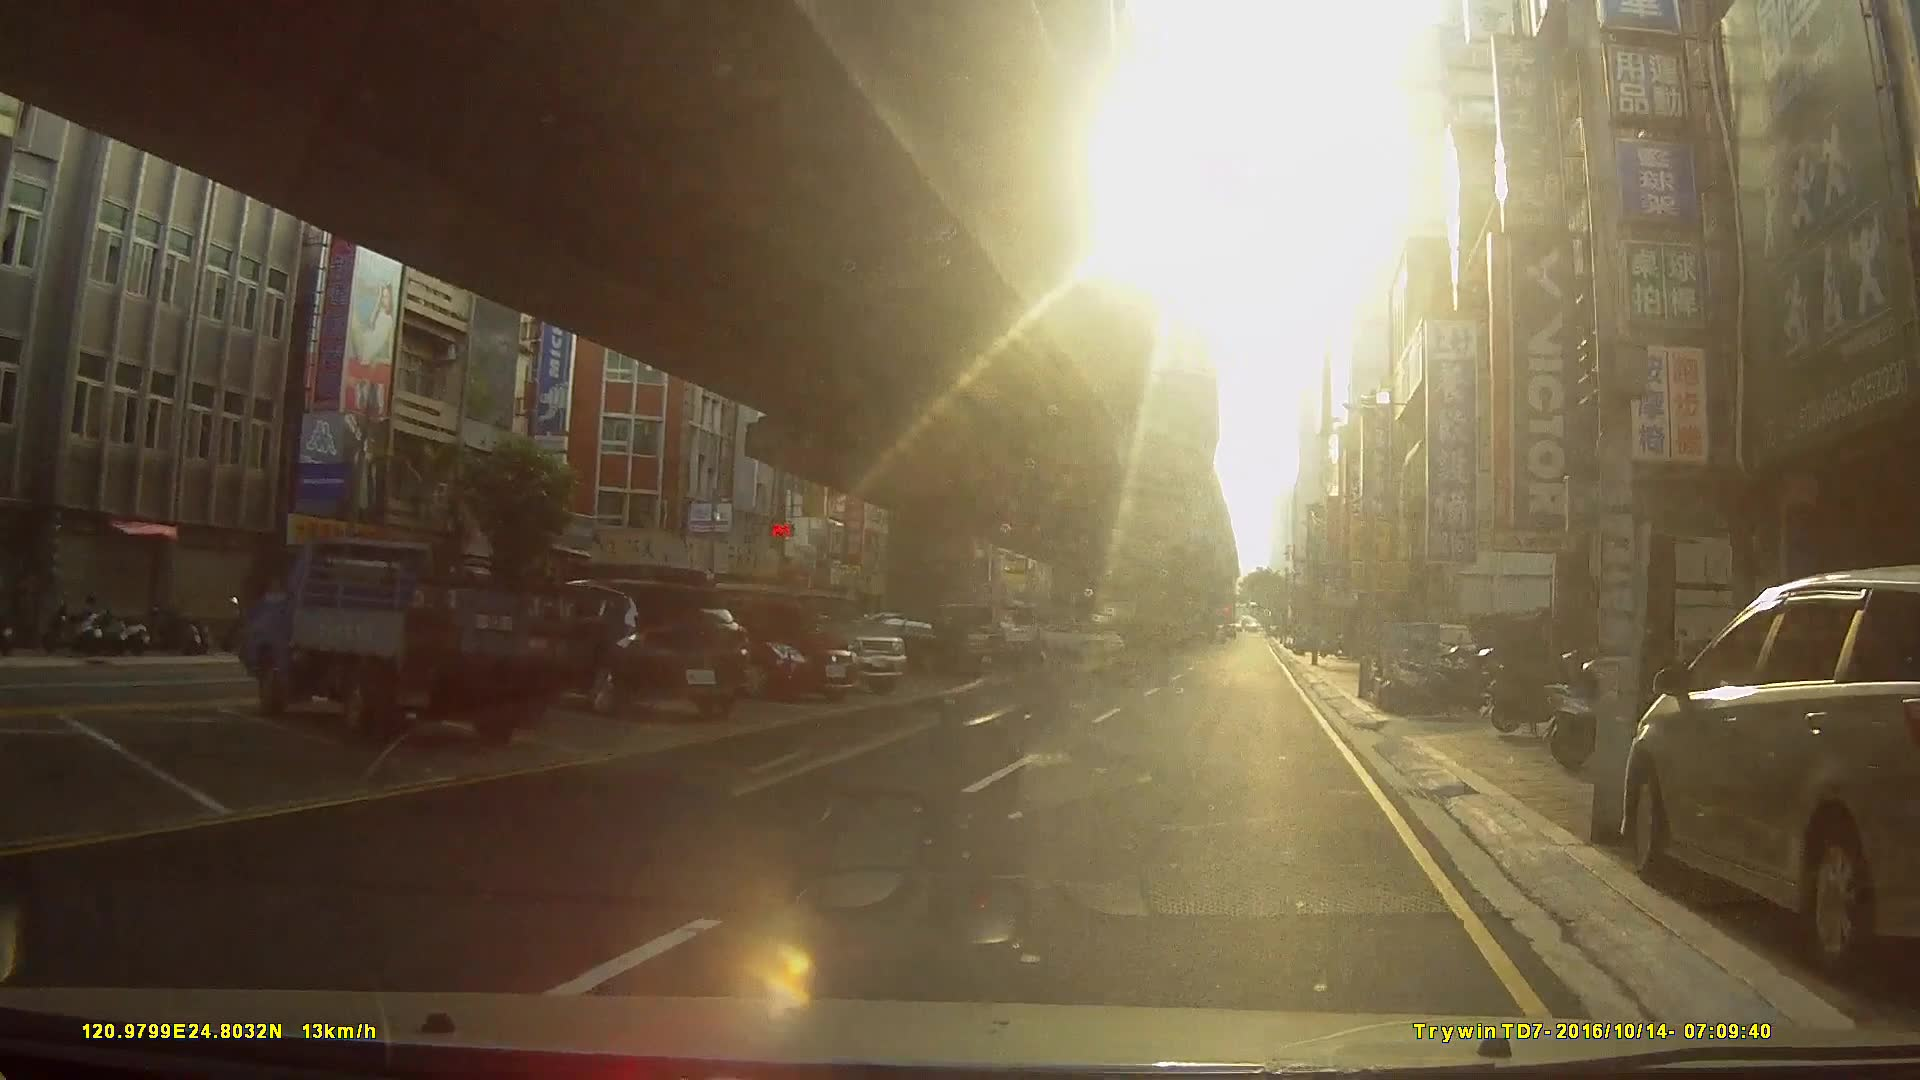vehicle: (1619, 564, 1920, 982), (233, 534, 580, 746), (521, 579, 750, 723), (674, 595, 858, 702), (837, 615, 996, 678)
